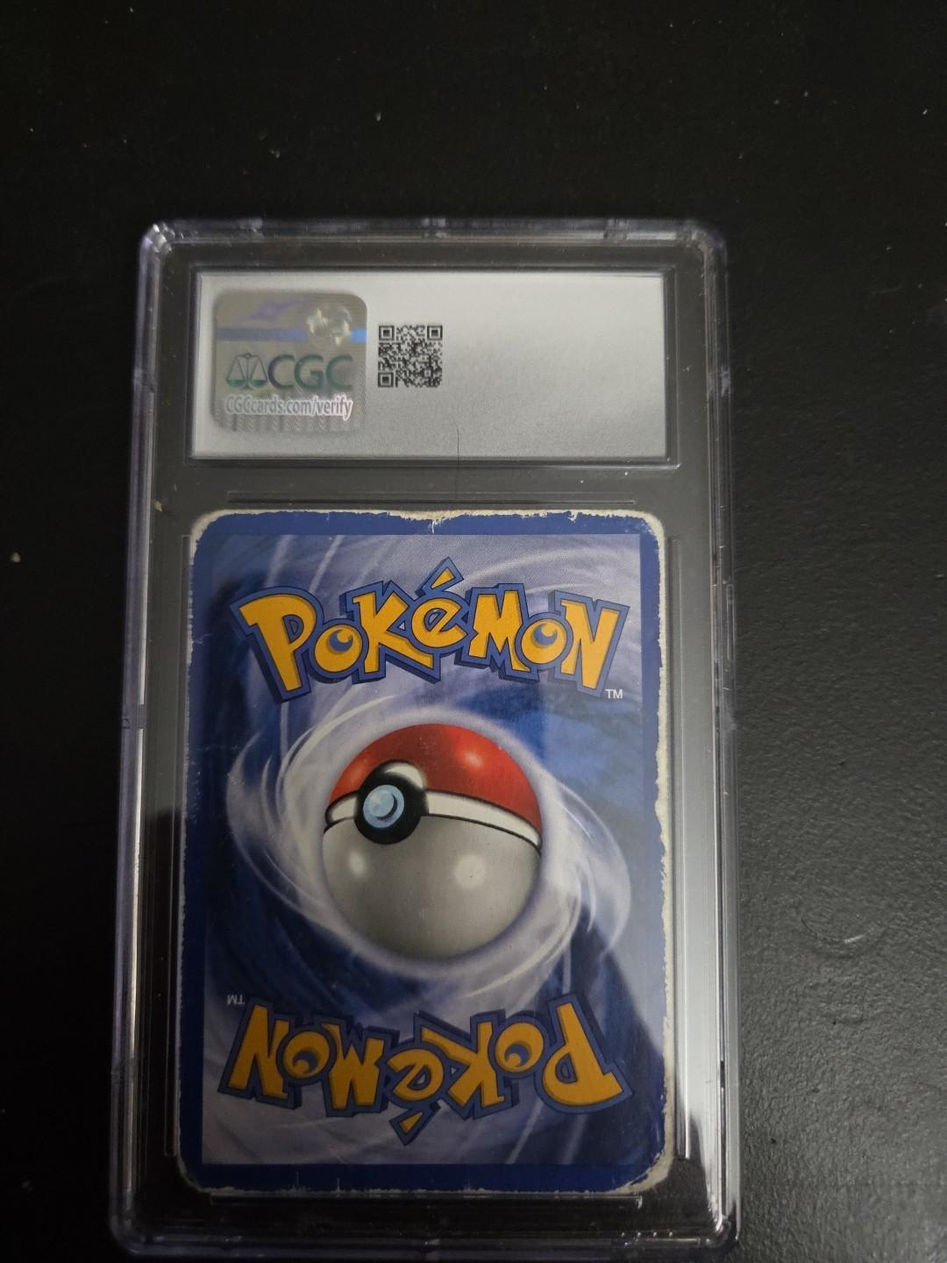card-2UtV: (175, 504, 676, 1196)
